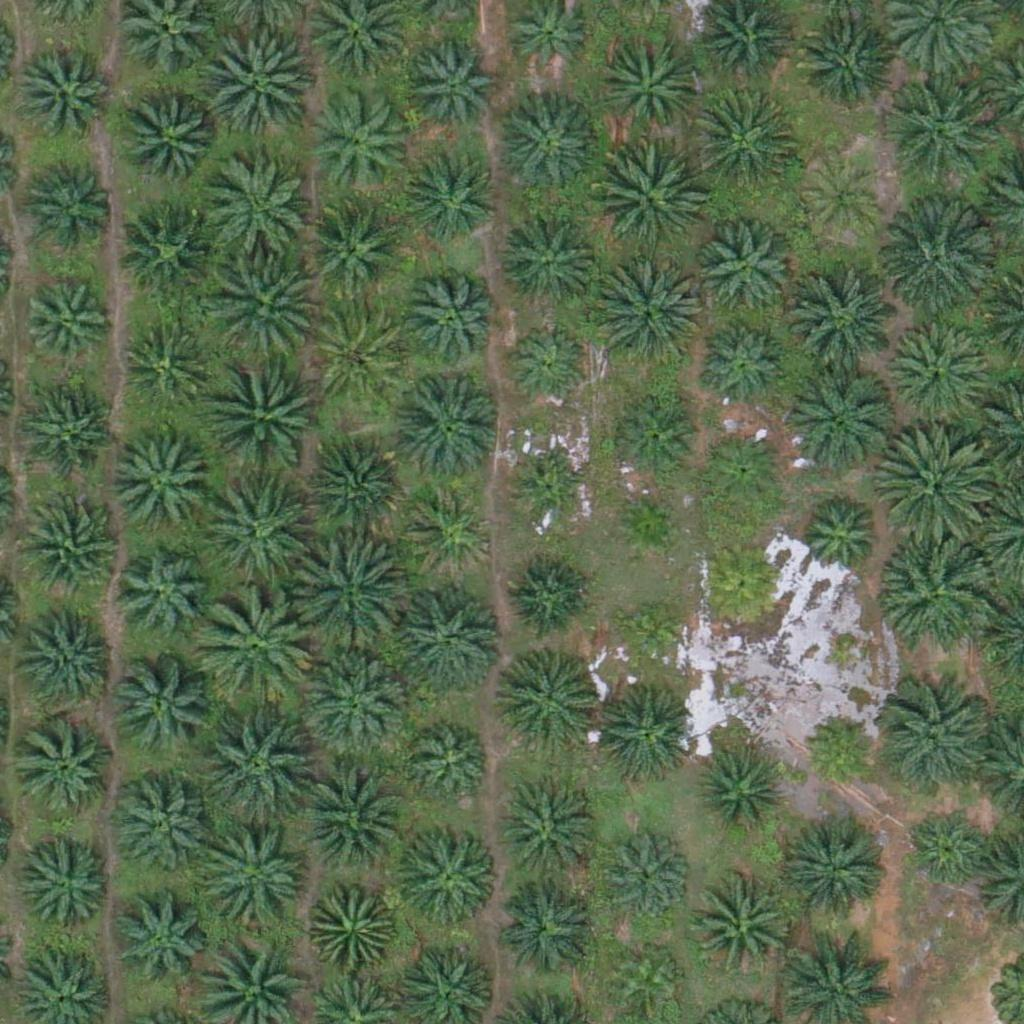Kelapa_Sawit: (197, 477, 310, 591), (880, 77, 993, 191), (206, 249, 319, 363), (202, 824, 315, 937), (201, 708, 314, 821), (883, 534, 996, 647), (880, 682, 993, 795), (880, 203, 993, 316), (590, 256, 703, 369), (591, 144, 704, 257), (200, 157, 313, 270), (206, 28, 319, 141), (302, 645, 414, 759), (878, 423, 990, 537), (208, 352, 320, 466), (199, 591, 311, 704), (289, 539, 401, 652), (294, 760, 406, 873), (392, 580, 504, 693), (689, 86, 801, 199), (391, 370, 503, 483), (787, 269, 899, 382), (782, 362, 894, 475), (16, 718, 116, 819), (17, 494, 117, 595), (114, 545, 214, 646), (112, 655, 212, 756), (107, 891, 207, 992), (398, 822, 498, 923), (500, 786, 600, 887), (498, 877, 598, 978), (591, 684, 691, 785), (690, 877, 790, 978), (787, 816, 887, 917), (889, 324, 989, 425), (694, 218, 794, 319), (598, 37, 698, 138), (496, 97, 596, 198), (498, 210, 598, 311), (400, 269, 500, 370), (306, 87, 406, 188), (303, 197, 403, 298), (19, 382, 119, 483), (17, 834, 117, 934), (24, 605, 124, 705), (108, 436, 208, 536), (111, 773, 211, 873), (304, 440, 404, 540), (497, 648, 597, 748), (790, 13, 890, 113), (309, 306, 409, 406), (120, 88, 220, 188), (120, 202, 220, 302), (23, 153, 123, 253), (15, 44, 115, 144), (698, 538, 786, 627), (904, 808, 992, 896), (698, 425, 786, 513), (799, 156, 887, 244), (503, 323, 591, 411), (406, 155, 494, 243), (405, 46, 493, 134), (119, 321, 207, 409), (21, 283, 109, 371), (700, 321, 787, 410), (406, 488, 493, 576), (309, 880, 396, 968), (410, 722, 497, 810), (505, 552, 592, 640), (603, 829, 690, 917), (697, 749, 784, 837), (794, 493, 881, 581), (609, 395, 696, 483), (801, 710, 876, 786), (609, 487, 684, 563), (613, 595, 688, 671), (515, 458, 590, 533), (610, 943, 685, 1018)
